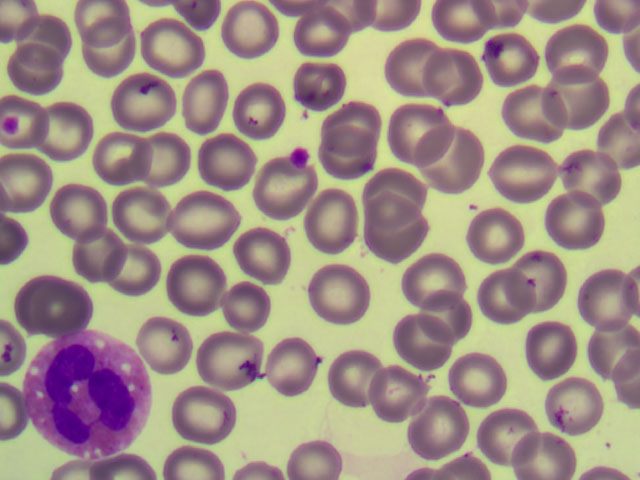RBC: (132, 312, 194, 372), (170, 254, 232, 314), (204, 271, 266, 331), (229, 225, 291, 285), (306, 260, 368, 320), (294, 185, 356, 245), (249, 164, 311, 224), (170, 188, 232, 248), (195, 130, 257, 190), (224, 76, 286, 136), (170, 67, 232, 127), (105, 72, 167, 132), (133, 130, 195, 190), (91, 130, 153, 190), (109, 183, 171, 243), (46, 180, 108, 240), (69, 220, 131, 280), (103, 241, 165, 301), (36, 274, 98, 334), (3, 269, 65, 329), (35, 98, 97, 158), (83, 24, 145, 84), (13, 1, 75, 61), (9, 37, 71, 97), (134, 18, 196, 78), (206, 2, 268, 62), (290, 8, 352, 68), (285, 51, 347, 111), (320, 87, 382, 147), (313, 130, 375, 190), (360, 161, 422, 221), (364, 200, 426, 260), (424, 131, 486, 191), (393, 90, 455, 150), (427, 46, 489, 106), (379, 28, 441, 88), (482, 30, 544, 90), (491, 72, 553, 132), (536, 64, 598, 124), (559, 17, 621, 77), (558, 141, 620, 201), (551, 196, 613, 256), (496, 145, 558, 205), (467, 206, 529, 266), (523, 256, 585, 316), (476, 266, 538, 326), (398, 243, 460, 303), (420, 284, 482, 344), (393, 311, 455, 371), (367, 358, 429, 418), (329, 349, 391, 409), (266, 336, 328, 396), (194, 329, 256, 389), (170, 381, 232, 441), (402, 397, 464, 457), (439, 344, 501, 404), (470, 399, 532, 459), (506, 419, 568, 479), (540, 376, 602, 436), (520, 314, 582, 374), (578, 317, 640, 377), (578, 263, 640, 323), (1, 153, 62, 213)
WBC: (26, 331, 155, 456)
